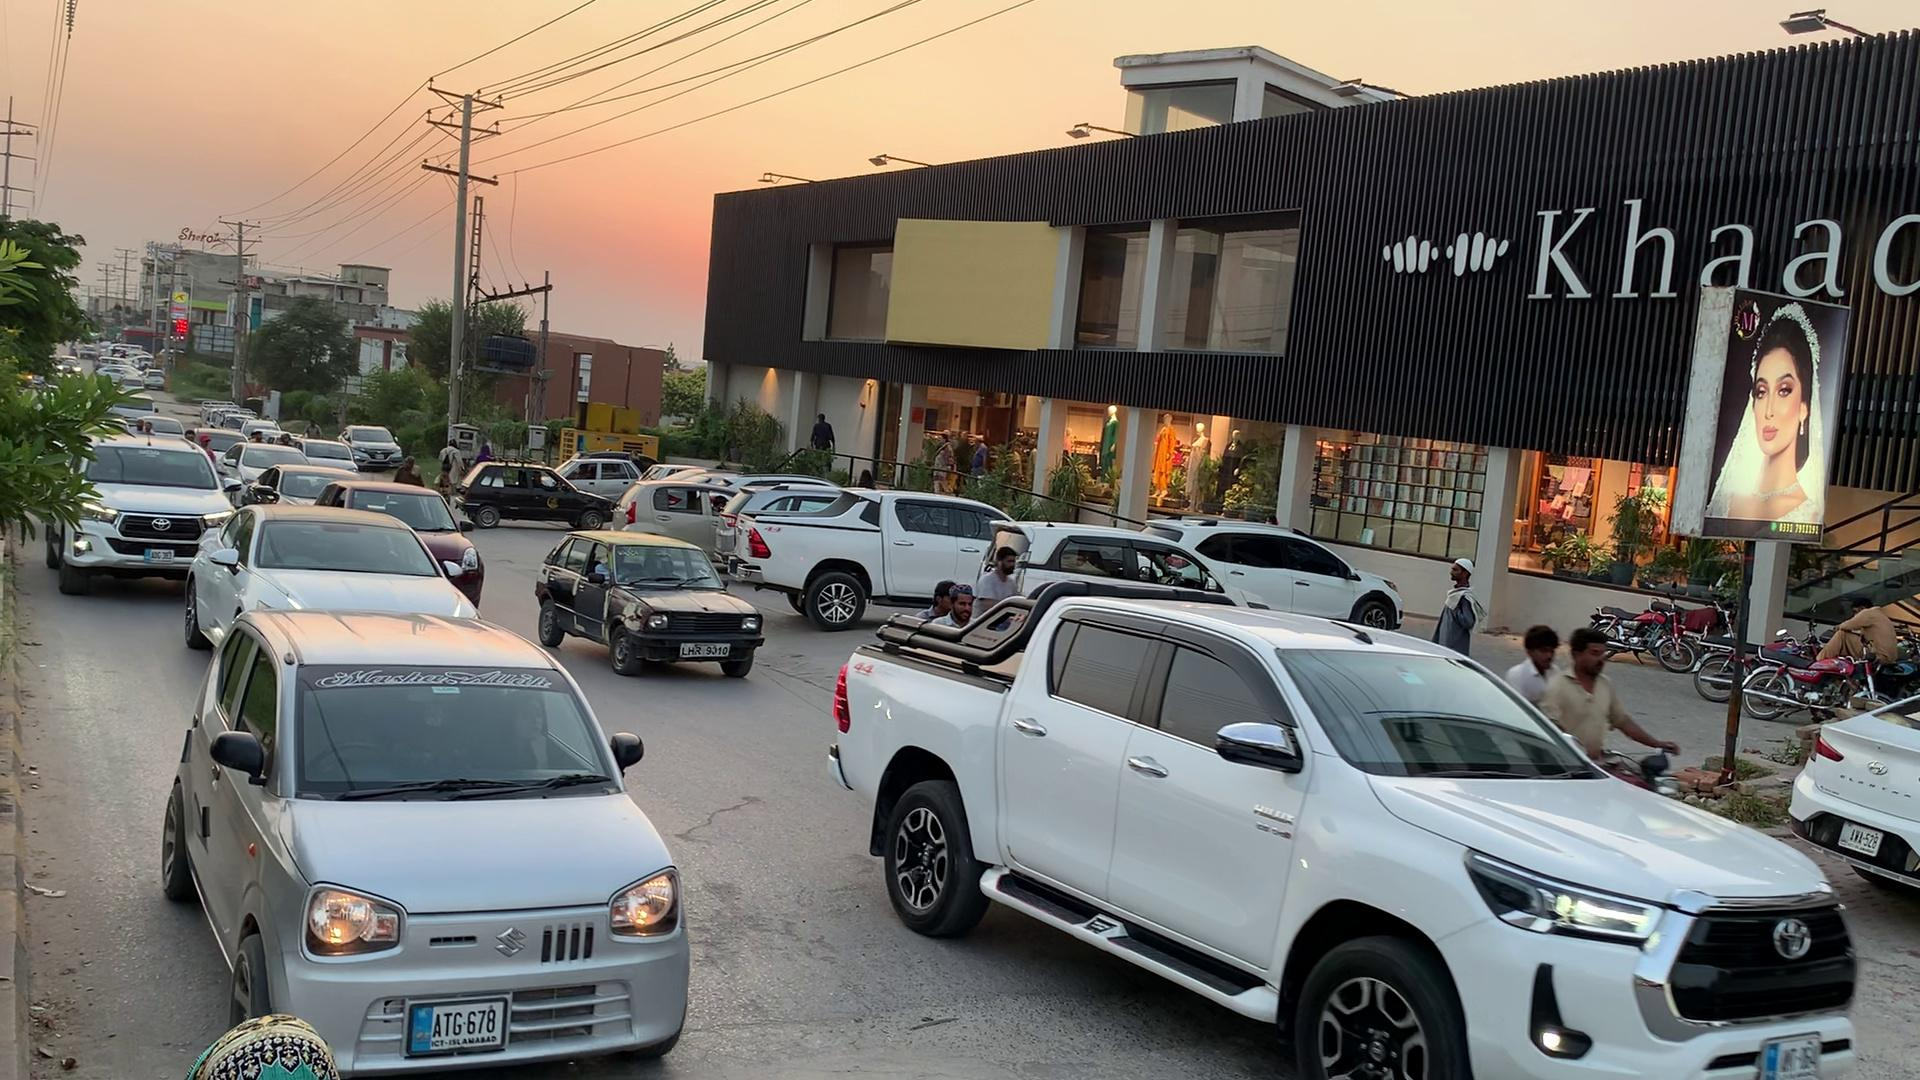windshield: (287, 644, 634, 833), (1261, 637, 1614, 800)
